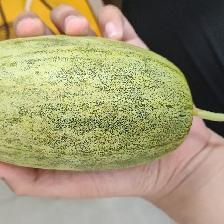gua: (3, 32, 216, 174)
